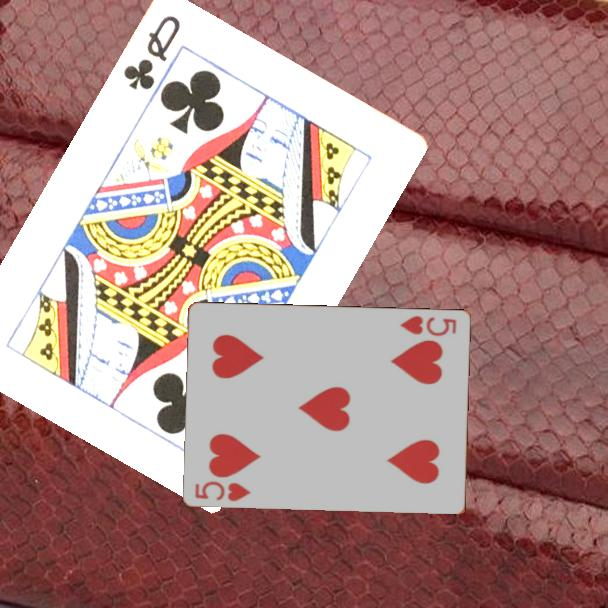c12: (119, 11, 183, 93)
h05: (397, 312, 460, 339), (192, 477, 254, 504)
